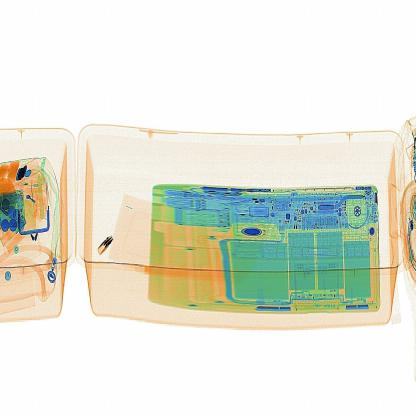wrench: (90, 225, 121, 273)
